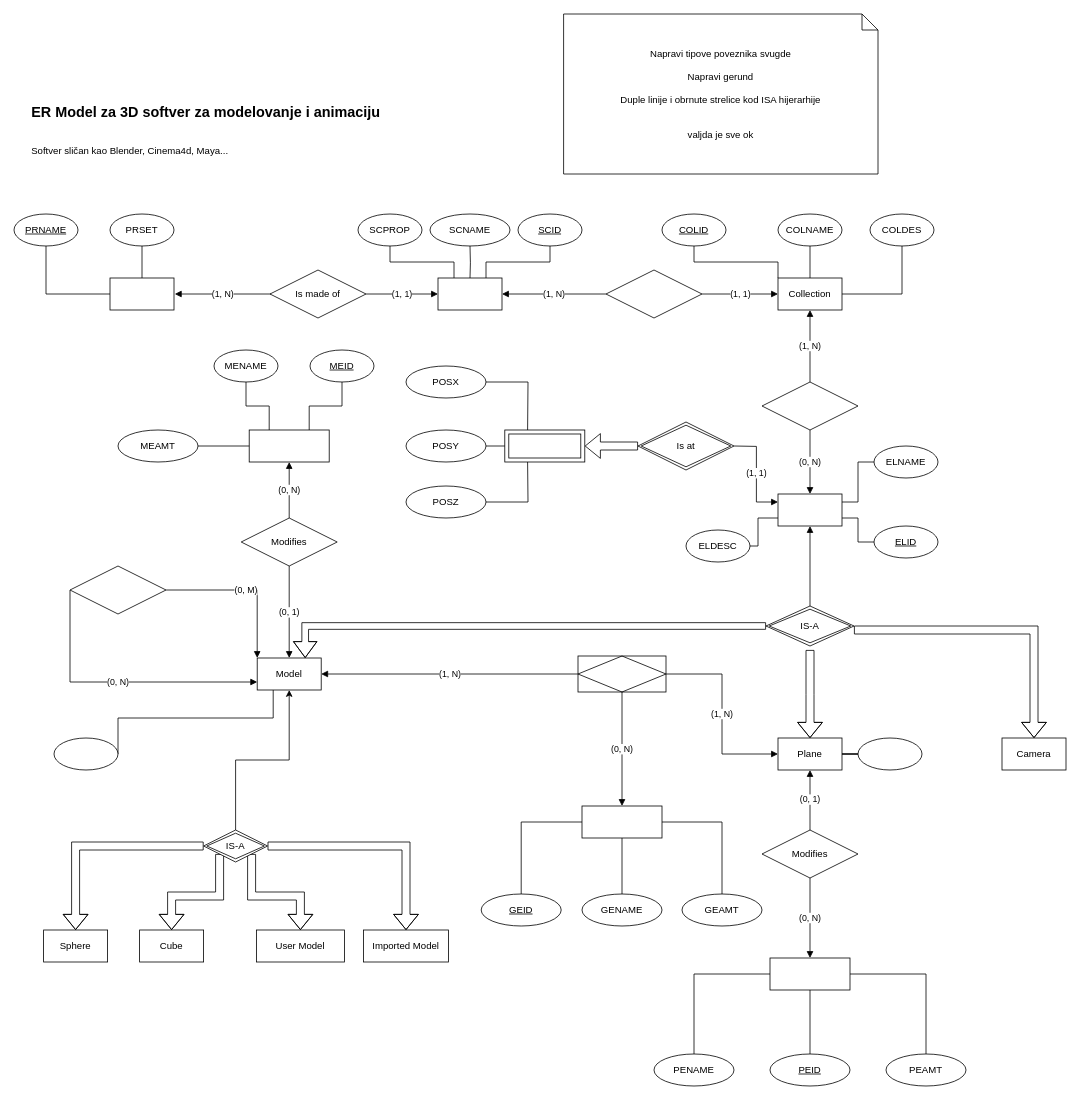
Image size: 1080x1100. Some labels were removed from this diagram. Each missing label, with the centre of its shape:
"Contains" goes at point (653, 293).
"Element" goes at point (809, 509).
"Group" goes at point (621, 673).
"Group Effect" goes at point (621, 821).
"Has" goes at point (809, 405).
"Is part of" goes at point (117, 589).
"MDSIZE" goes at point (85, 753).
"Model Effect" goes at point (288, 445).
"Plane Effect" goes at point (809, 973).
"PLSIZE" goes at point (889, 753).
"Position" goes at point (544, 445).
"Project" goes at point (141, 293).
"Scene" goes at point (469, 293).
